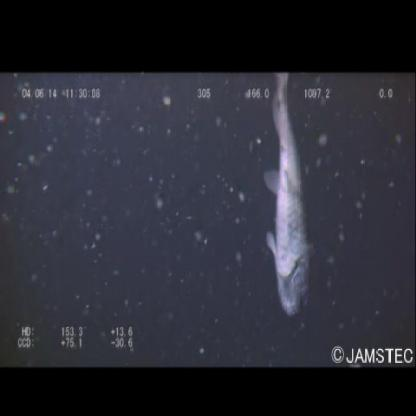Bio: (259, 73, 320, 320)
